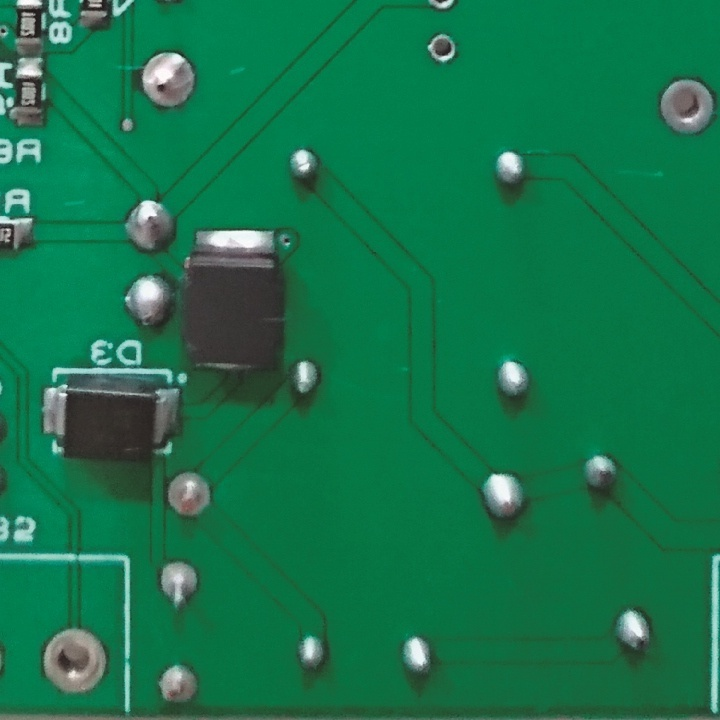F: (40, 625, 110, 698), (137, 46, 195, 117), (655, 75, 716, 137), (161, 466, 215, 523), (155, 558, 202, 615), (150, 662, 200, 709), (424, 29, 462, 67)
